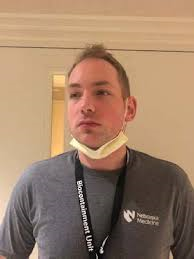mask_weared_incorrect: (68, 65, 135, 161)
